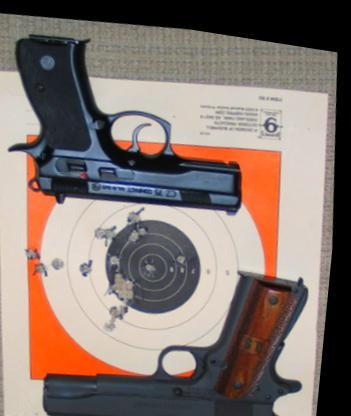pistol: (1, 14, 256, 225), (38, 235, 324, 415)
